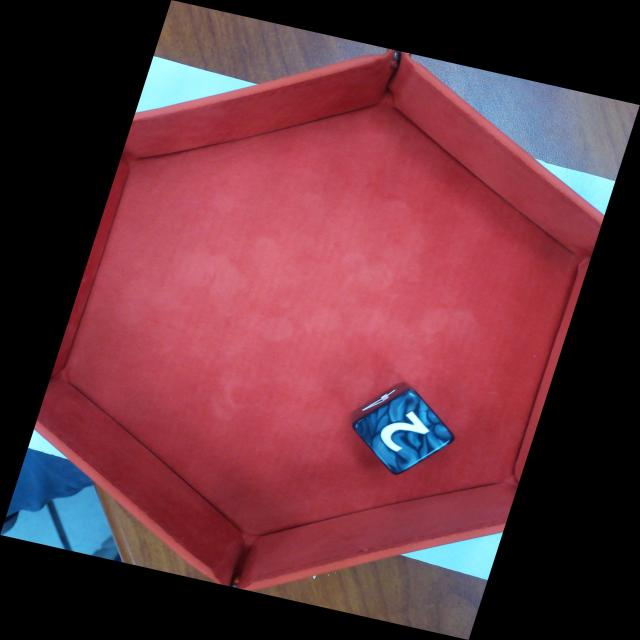dice: (349, 387, 456, 477)
